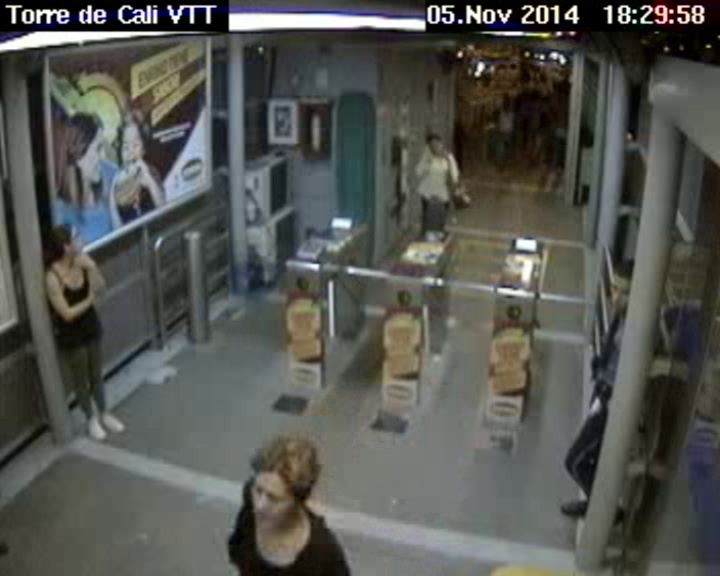person: (236, 429, 324, 538), (608, 252, 641, 322), (43, 220, 87, 264), (417, 129, 448, 159), (501, 92, 510, 108)
